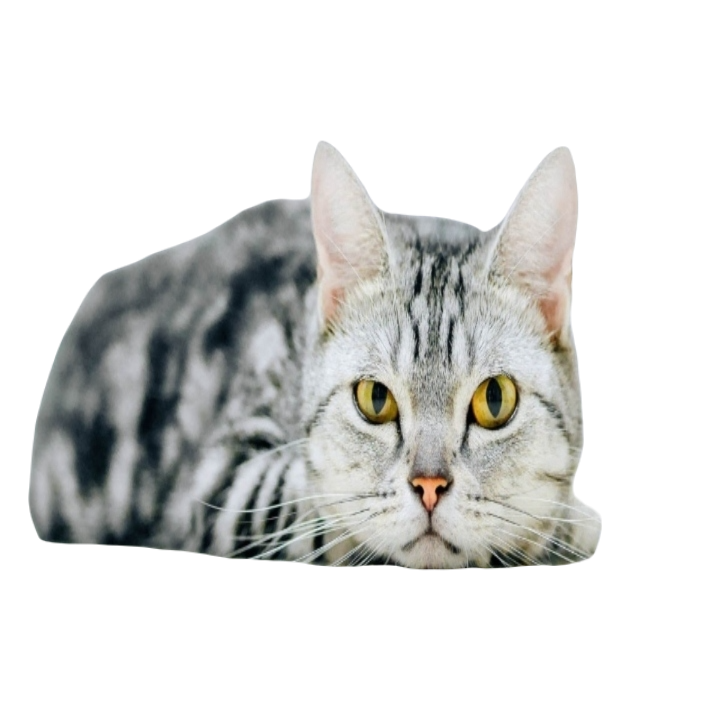Cat: (28, 139, 689, 572)
